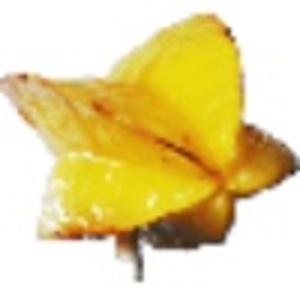carambola: (1, 11, 300, 280)
